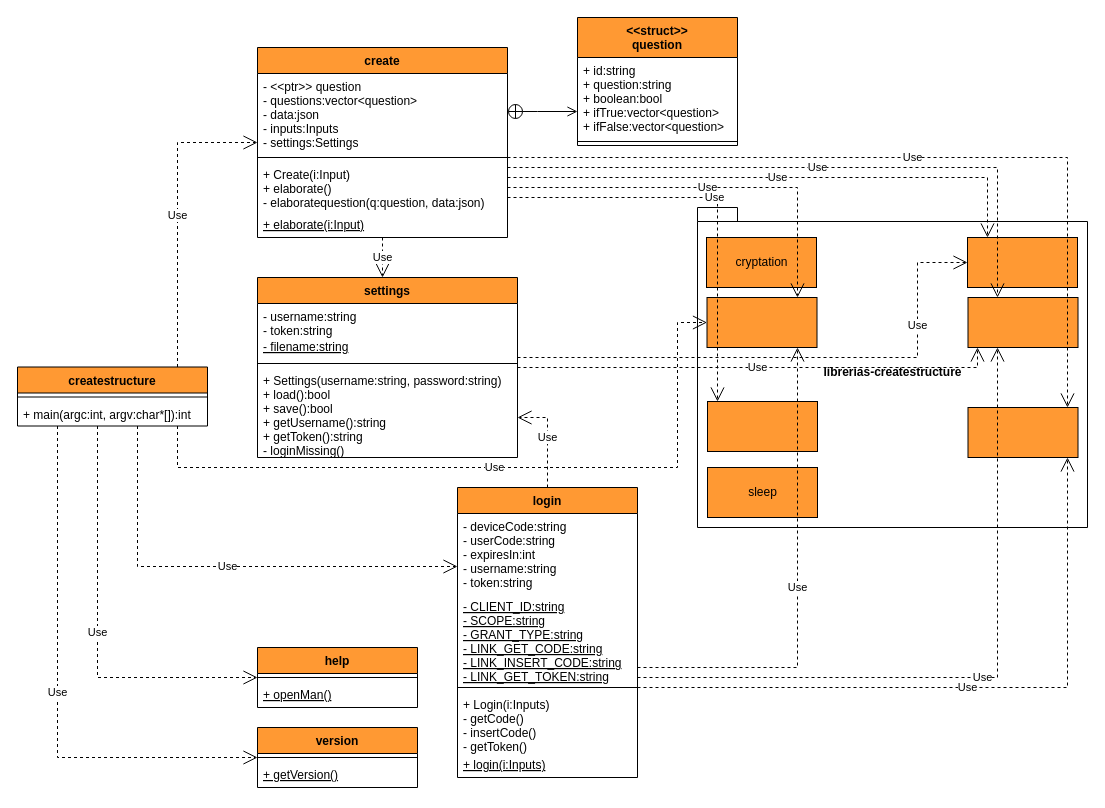
The diagram is 1105 pixels wide and 808 high, and some of its shapes have lost their labels. Here are the shapes that lost their labels. From the top down, the centre of each, then its label:
At (1022,262): "emoji".
At (761,322): "inputs".
At (1022,322): "json".
At (762,426): "positive".
At (1022,432): "rest".
